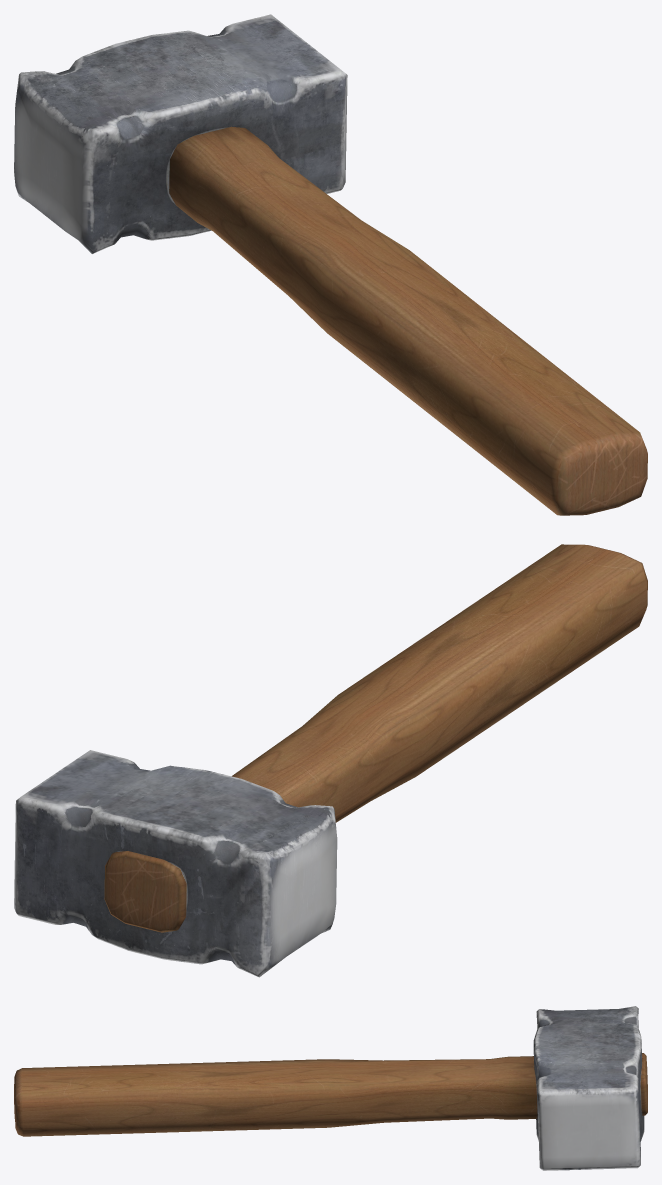
The model's file is VTool_HannmerBlender.fbx.
3 renders of one model, top to bottom at view 1: azimuth 30°, elevation 25°; view 2: azimuth 150°, elevation 25°; view 3: azimuth 270°, elevation 25°, orthographic. The views are drawn at different scales.
Visible parts, largest first — view 1: handle, head; view 2: handle, head; view 3: handle, head.
Boxes of the visible parts, <box> form: handle: <box>169,126,647,515</box>; head: <box>14,14,347,253</box>; handle: <box>104,544,647,932</box>; head: <box>14,750,337,977</box>; handle: <box>14,1053,647,1136</box>; head: <box>533,1006,644,1170</box>.
Bounding box in the file's own units: 0.1109 × 0.055 × 0.3478.
